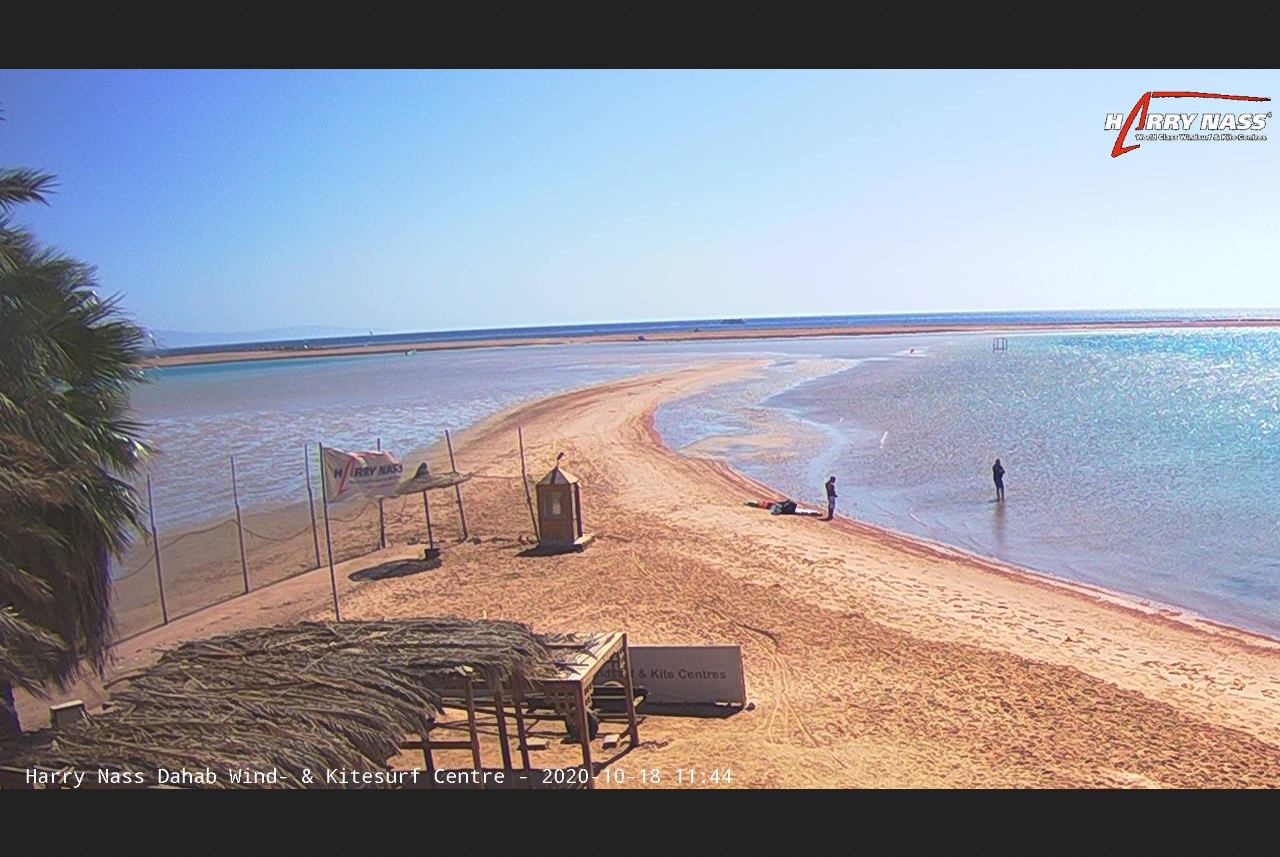yes: (312, 440, 413, 506)
